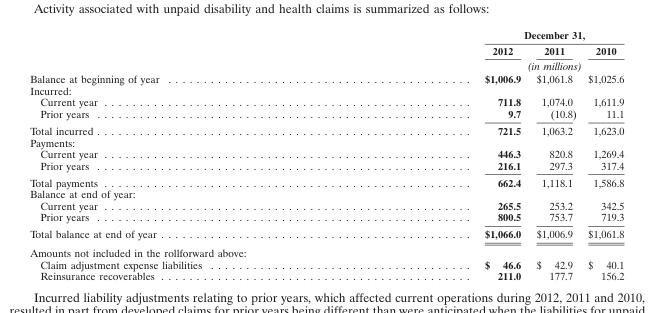table: (29, 28, 623, 281)
table column: (29, 28, 342, 281), (342, 28, 527, 281), (527, 28, 581, 281), (581, 28, 623, 281)
table column header: (29, 28, 623, 72)
table projected row header: (29, 242, 623, 258), (29, 84, 623, 96), (29, 187, 623, 199), (29, 136, 623, 147)
table row: (29, 225, 623, 242), (29, 242, 623, 258), (29, 42, 623, 57), (29, 57, 623, 72), (29, 121, 623, 136), (29, 28, 623, 42), (29, 107, 623, 121), (29, 159, 623, 173), (29, 173, 623, 187), (29, 211, 623, 225), (29, 72, 623, 84), (29, 84, 623, 96), (29, 147, 623, 159), (29, 187, 623, 199), (29, 199, 623, 211), (29, 269, 623, 281), (29, 96, 623, 107), (29, 136, 623, 147), (29, 258, 623, 269)
table spanning cell: (342, 57, 623, 72), (342, 28, 623, 42)
